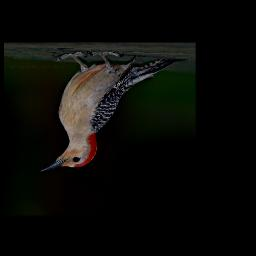Woodpecker: (37, 50, 187, 174)
